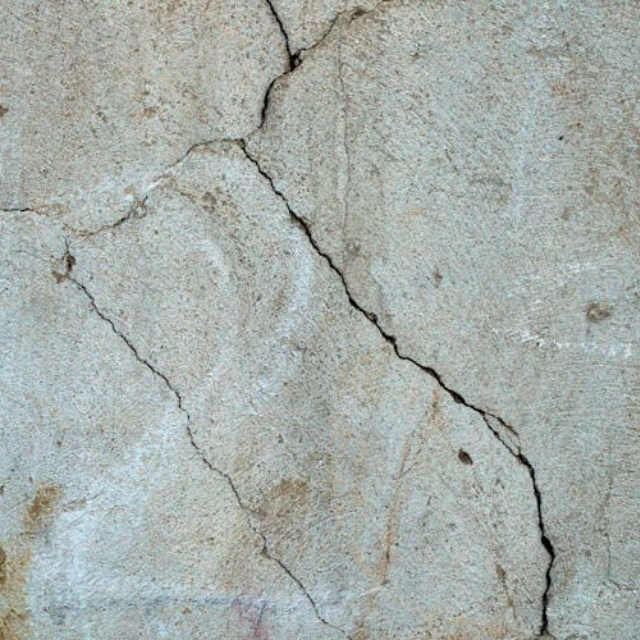细微裂纹: (152, 0, 591, 640), (0, 0, 360, 640), (128, 0, 506, 467), (390, 114, 640, 640), (0, 0, 202, 640), (435, 209, 601, 640), (181, 0, 342, 341), (470, 376, 590, 640), (535, 397, 640, 640)
网状裂隙: (164, 0, 640, 640)
